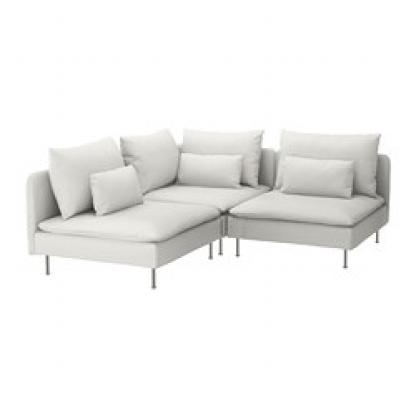Sofa: (21, 110, 392, 306)
